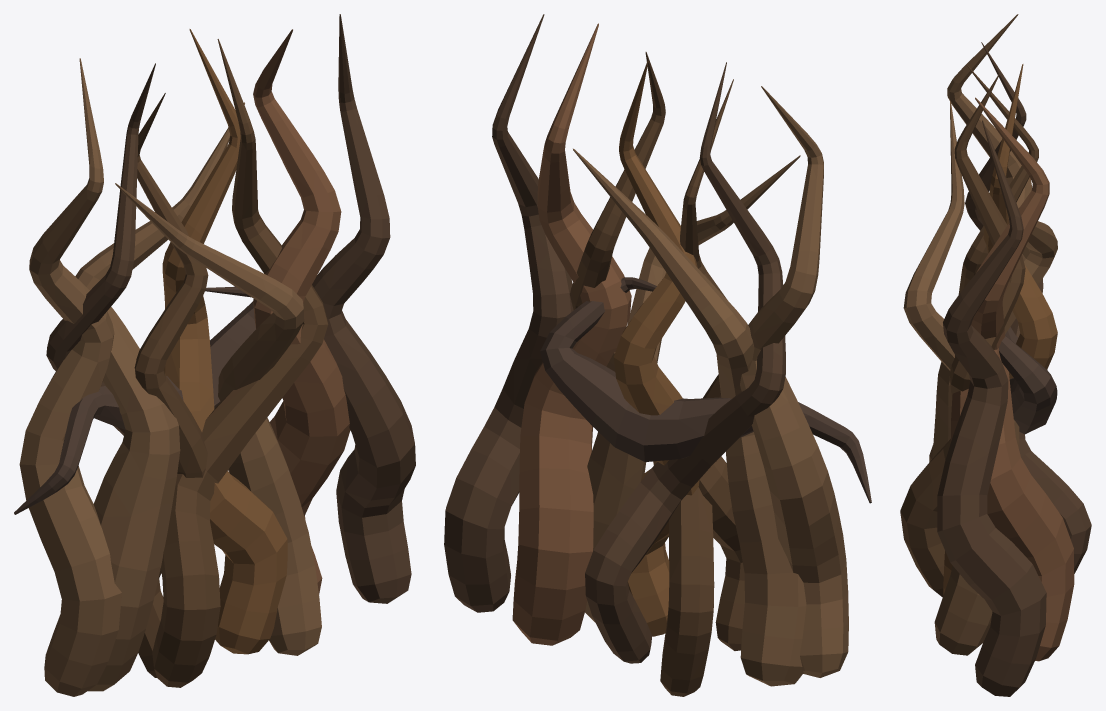
File: ObstaculoPared.fbx
3 views of the same model, side by side, from view 1: azimuth 30°, elevation 25°; view 2: azimuth 150°, elevation 25°; view 3: azimuth 270°, elevation 25° (orthographic). The views are drawn at different scales.
Visible parts, largest first — view 1: Plane.009; view 2: Plane.009; view 3: Plane.009.
Boxes of the visible parts, x1,y1,x2,y2 form: Plane.009: (14,14,415,696); Plane.009: (444,14,871,696); Plane.009: (900,14,1091,696).
Size of the model in its own units: 252 by 376 by 113.
